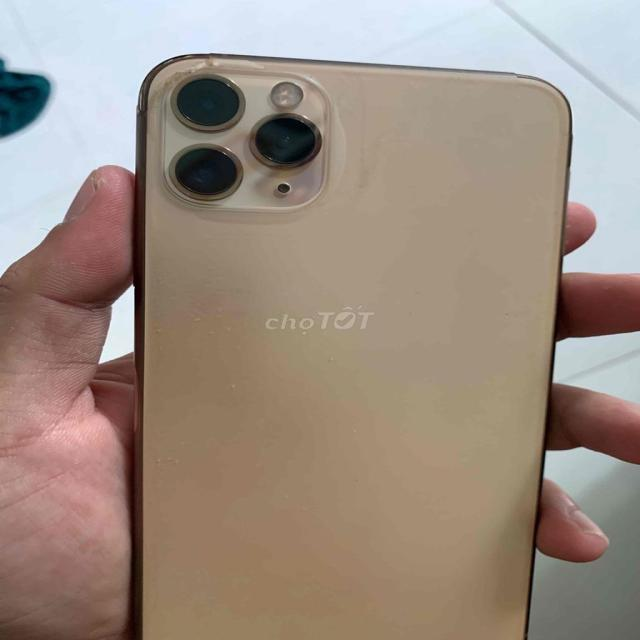gen_11: (107, 43, 568, 640)
scratch: (131, 44, 280, 118)
